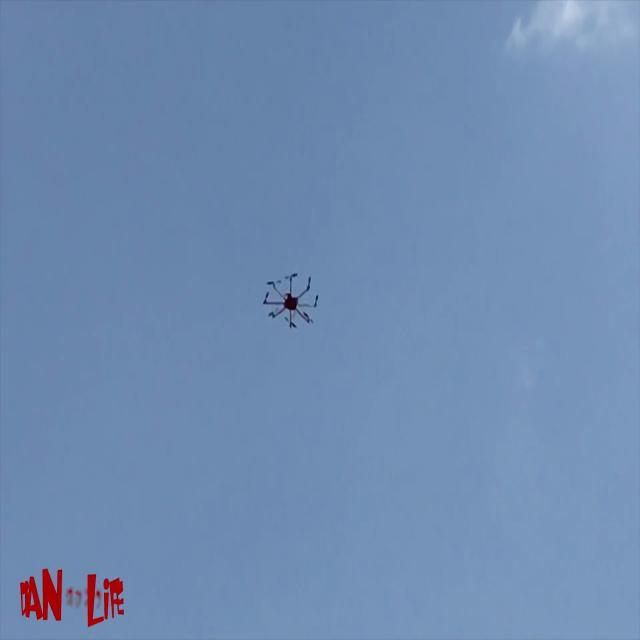drone: (260, 260, 326, 344)
